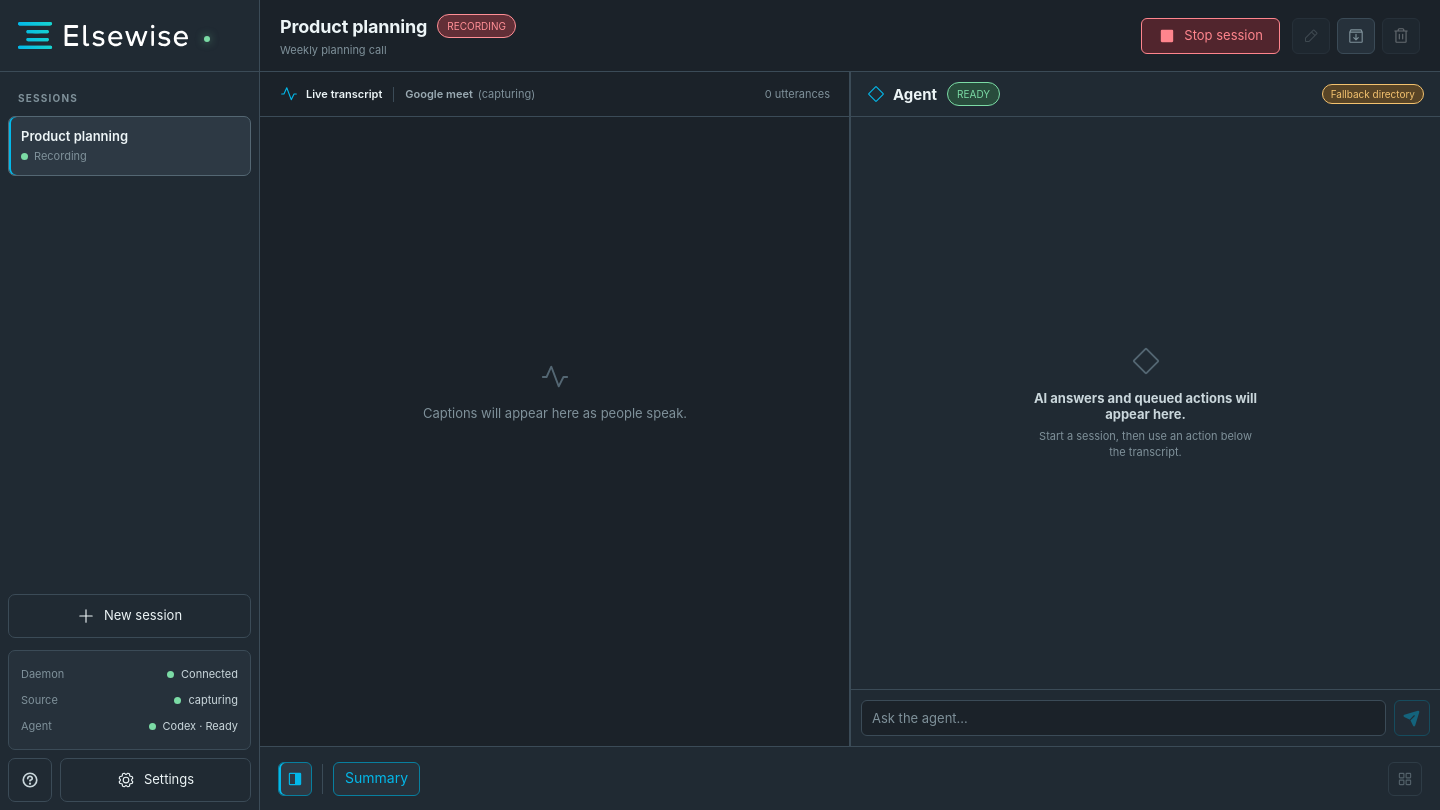
it: App live › sends a free prompt with Enter and keeps its composer outside the result scroll
The width and height of the screenshot is (1440, 810).
Check: the heading "Product planning" is shown, box [280,16,427,36]
In the text box named "Free prompt": (1124, 718) [861,700,1386,736], type "  What should we do next?  "
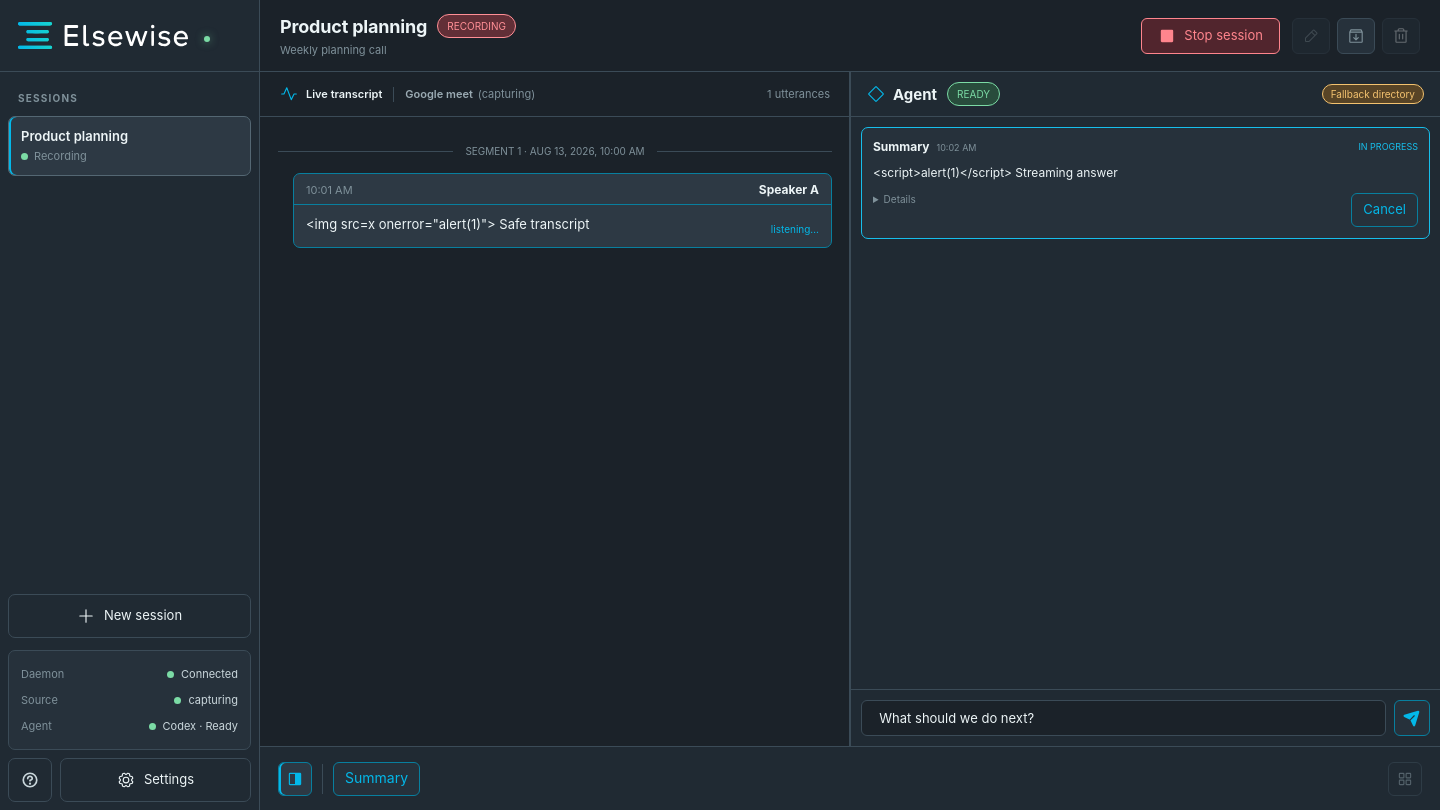
Press Enter in the text box named "Free prompt", box [861,700,1386,736]
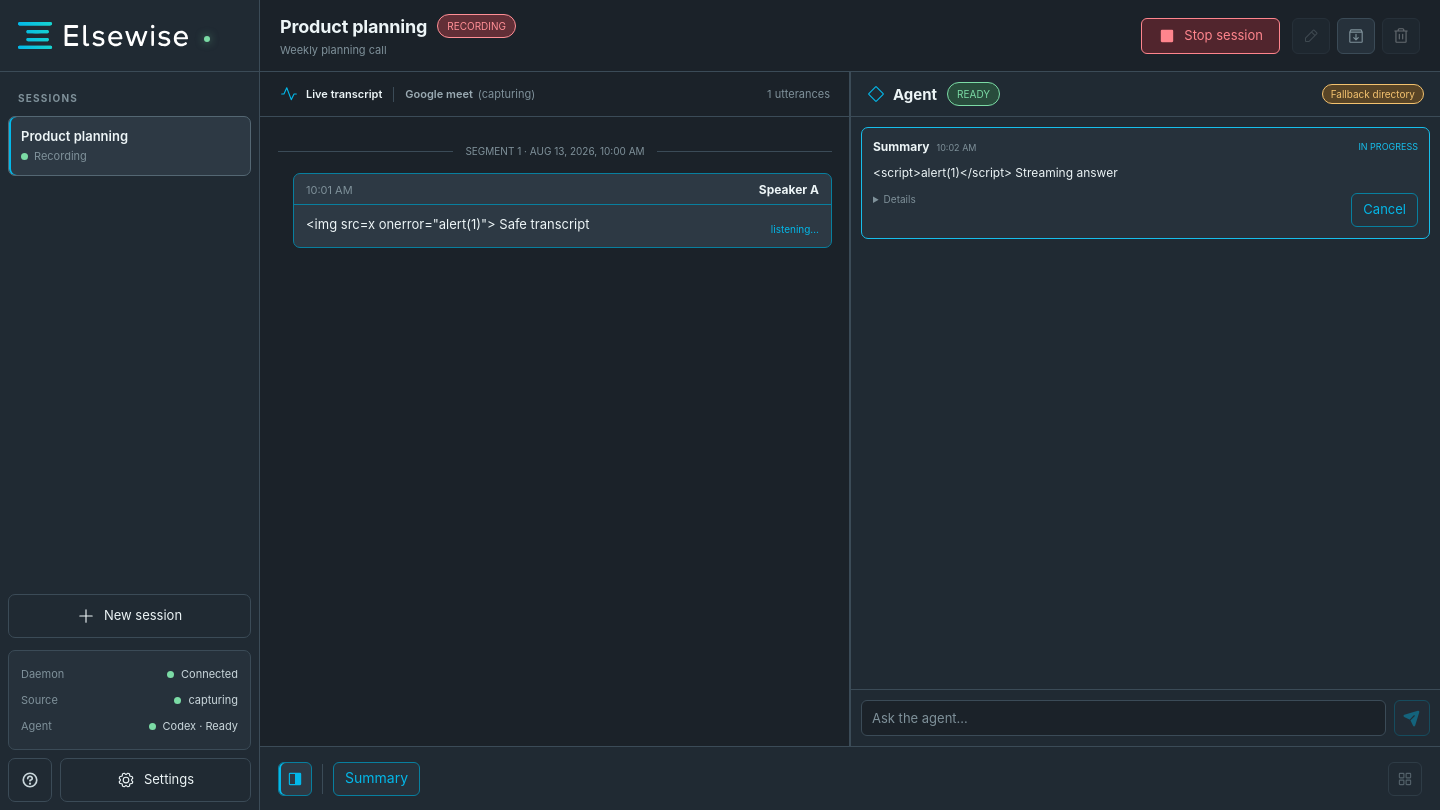
Check: the text box named "Free prompt" is empty, box [861,700,1386,736]
Check: the button named "Send prompt" is disabled, box [1394,700,1430,736]
